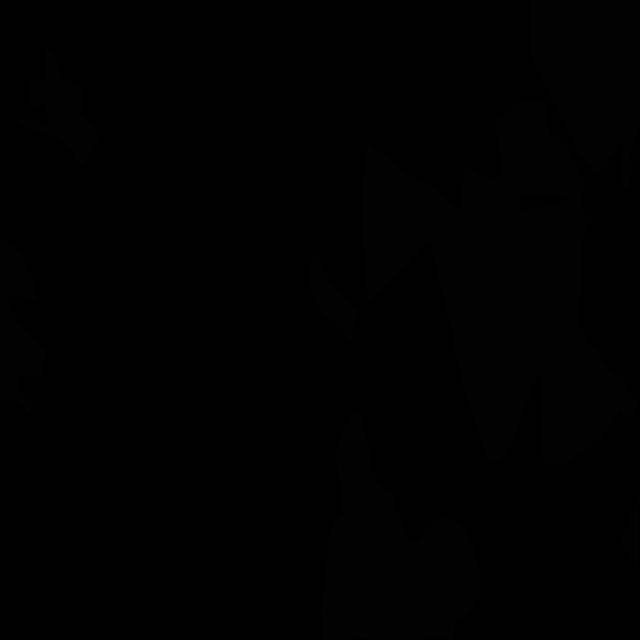cardboard: (362, 143, 564, 464), (460, 165, 638, 465), (336, 411, 480, 640), (529, 0, 640, 177), (17, 47, 102, 167), (495, 96, 586, 199), (0, 238, 47, 414), (320, 517, 367, 640), (310, 254, 360, 342), (622, 101, 640, 189), (621, 493, 639, 576)
